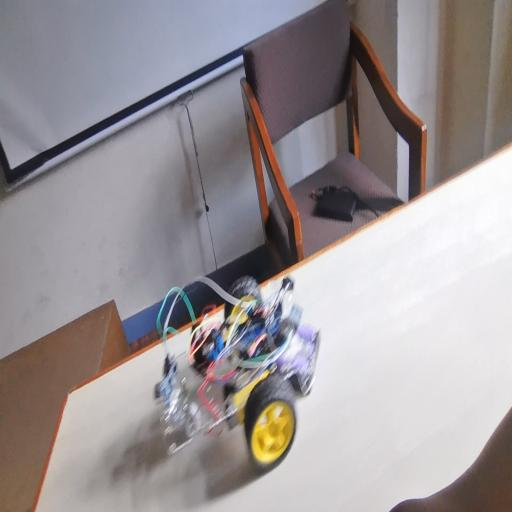car: (141, 271, 344, 490)
